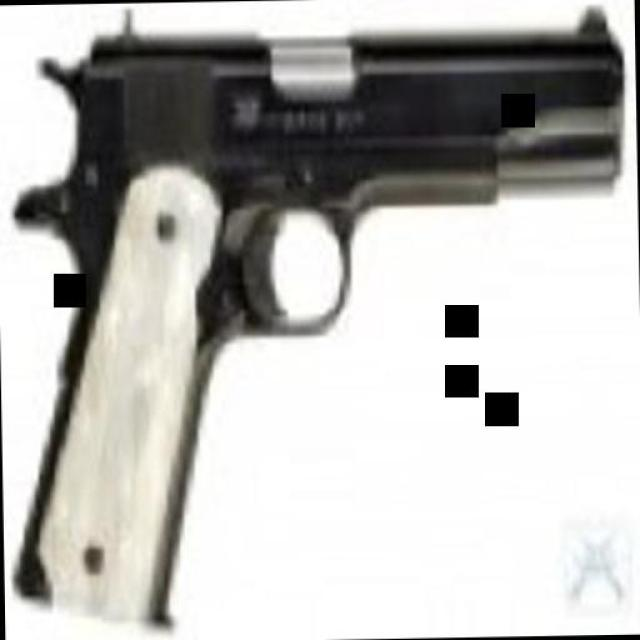gun: (5, 0, 631, 621)
